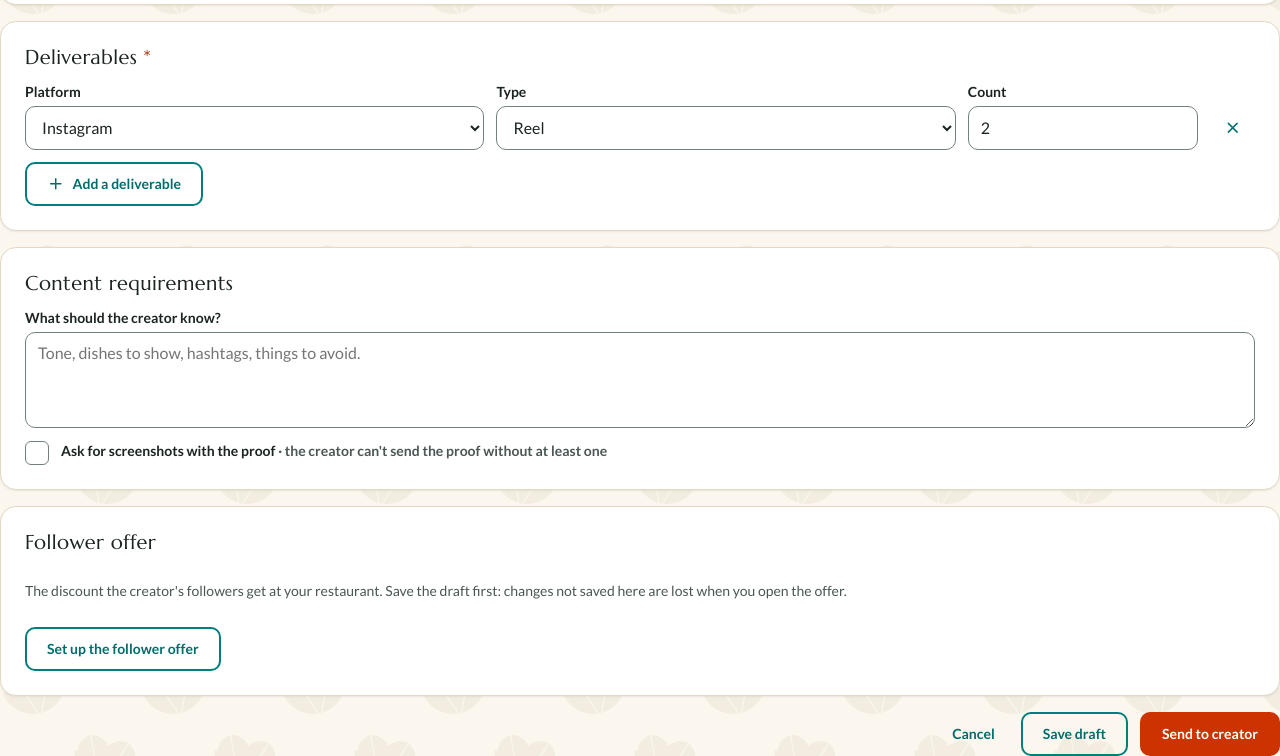
Scenario: saves changes to a draft in place with PUT
The image size is (1280, 756).
(page scrolled)
Click the button "Save draft": [1074, 734] box left=1021, top=712, right=1128, bottom=755
(page scrolled)
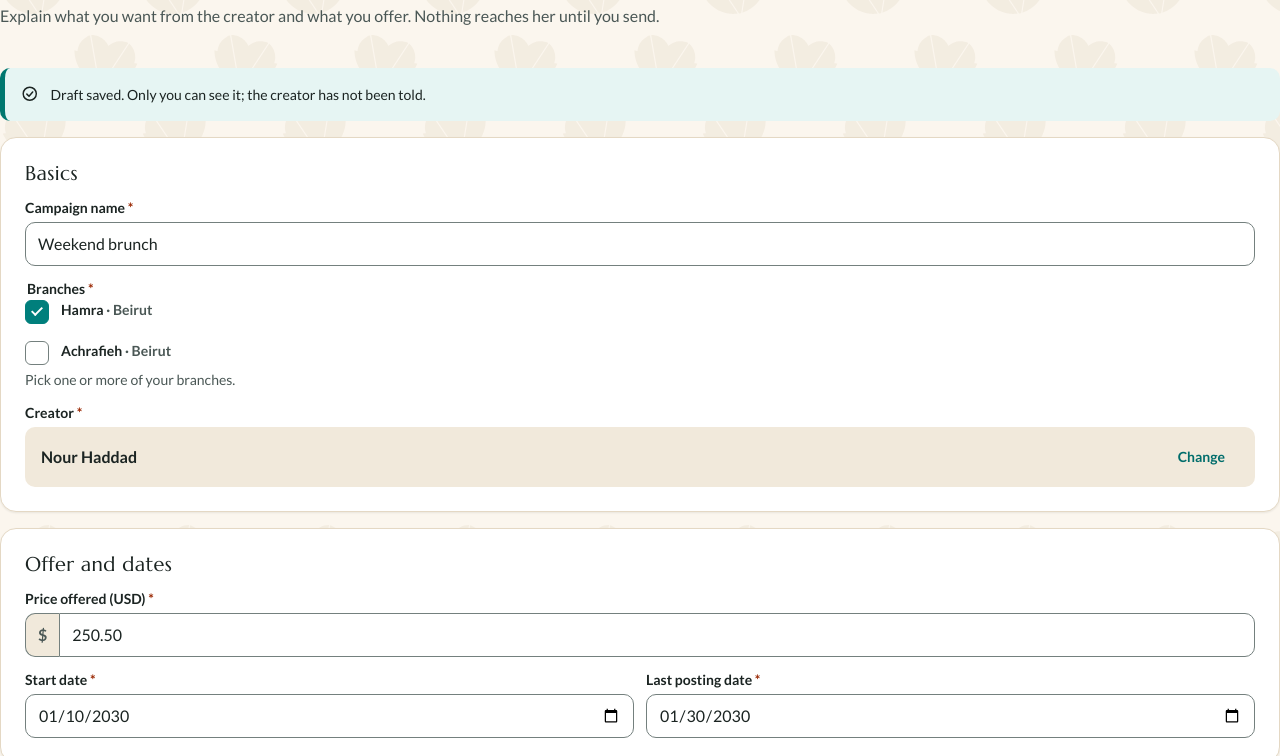
Expected: the text "Draft saved. Only you can see it" is shown, left=50, top=86, right=426, bottom=103
